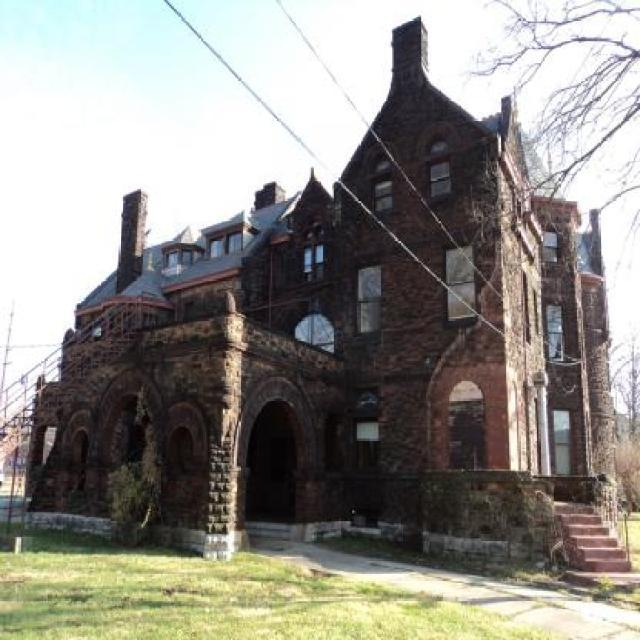stair: (0, 294, 142, 466), (552, 500, 632, 572)
